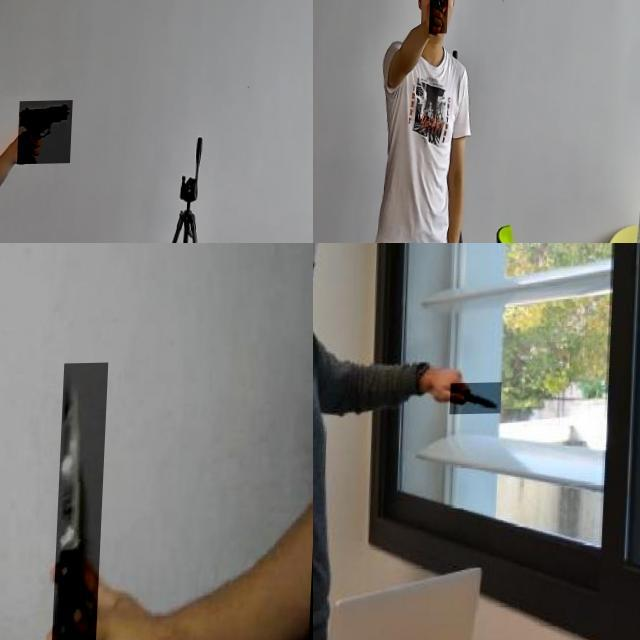-: (55, 364, 111, 640), (452, 384, 504, 416)
gun-knife-thesis - v11 Yolov5 augmented: (19, 101, 74, 165), (430, 0, 450, 35)
